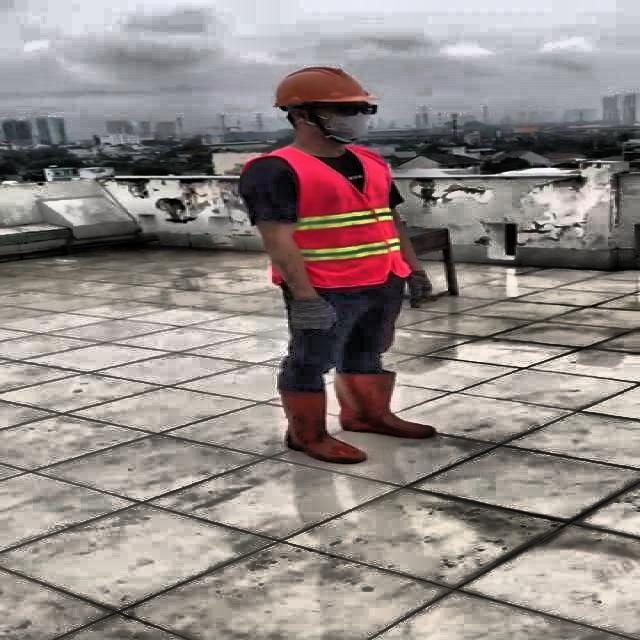safety_helmet: (270, 65, 370, 111)
safety_jacket: (256, 147, 409, 288)
